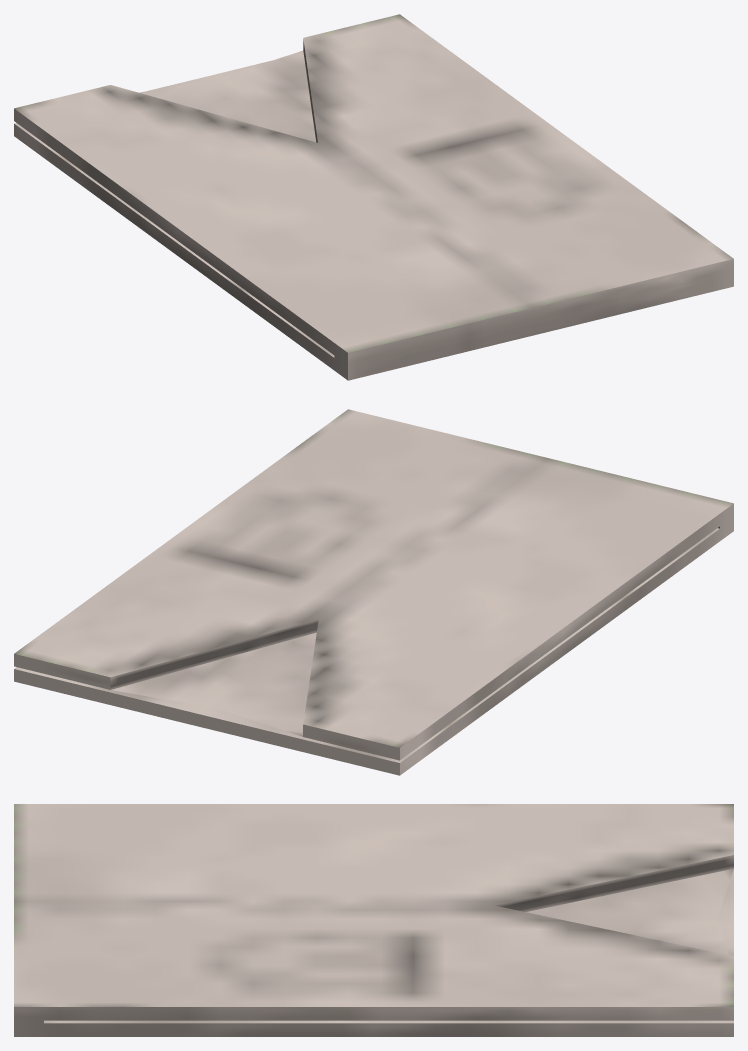
File: Clothes 01.obj
The picture shows the model from 3 angles, top to bottom: view 1: azimuth 30°, elevation 25°; view 2: azimuth 150°, elevation 25°; view 3: azimuth 270°, elevation 25°; orthographic projection. The views are drawn at different scales.
Visible parts, largest first — view 1: Clothes_01; view 2: Clothes_01; view 3: Clothes_01.
Part boxes in pixels (x1,y1,x2,y2): Clothes_01: (14, 14, 733, 380); Clothes_01: (14, 409, 733, 775); Clothes_01: (14, 804, 733, 1036).
Size of the model in its own units: 4.03 by 0.2772 by 6.05.
